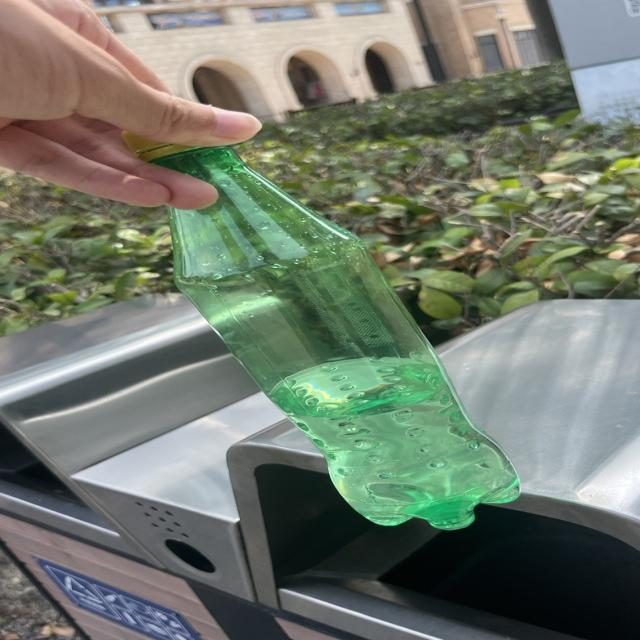medium: (123, 133, 518, 529)
